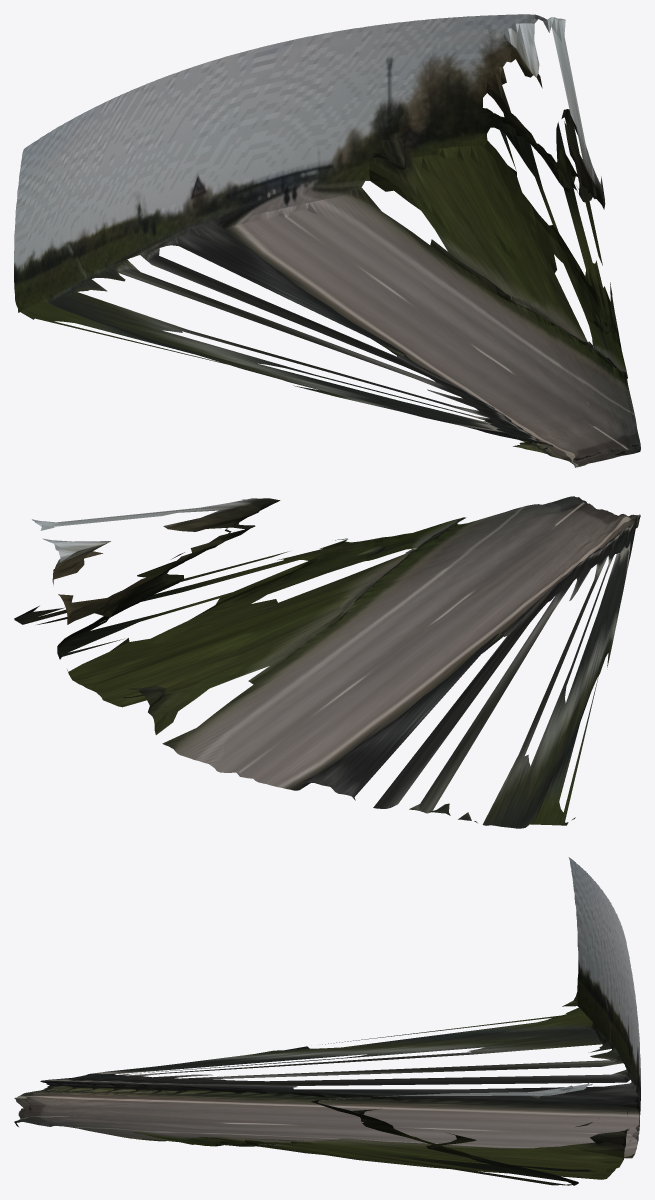
3 renders of one model, top to bottom at view 1: azimuth 30°, elevation 25°; view 2: azimuth 150°, elevation 25°; view 3: azimuth 270°, elevation 25°, orthographic. The views are drawn at different scales.
Parts seen in each view (by area): view 1: defaultobject; view 2: defaultobject; view 3: defaultobject.
Part boxes in pixels (x1,y1,x2,y2): defaultobject: [14, 14, 640, 467]; defaultobject: [14, 496, 640, 828]; defaultobject: [14, 857, 640, 1185].
Bounding box in the file's own units: 40.83 × 13.03 × 44.64.
1 material, 1 textured.
